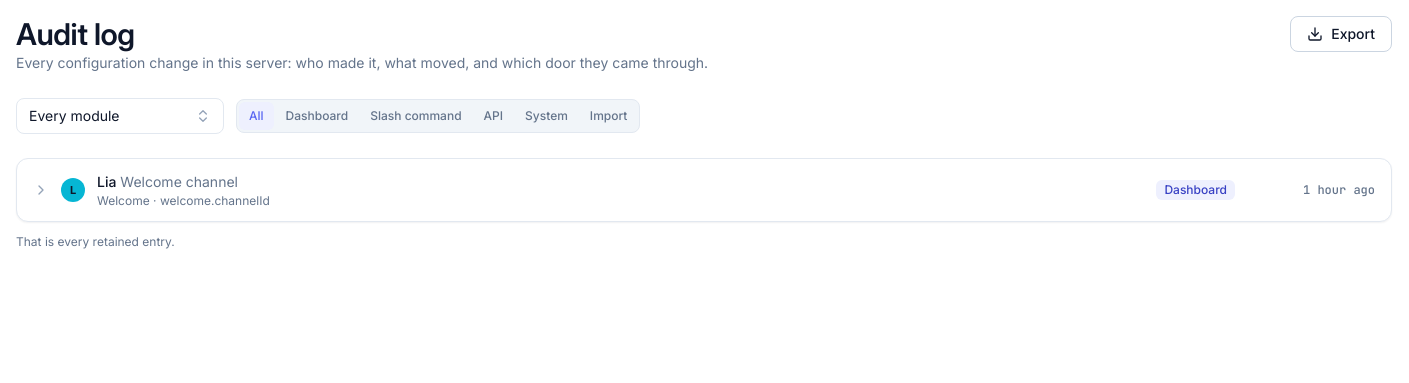
Scenario: AuditScreen › shows the before and after when the row is opened
What coordinates should you click on to do the following:
click the button that starts with "Lia"
I would click on:
 (179, 182)
Its box is x1=17 y1=159 x2=1391 y2=221.
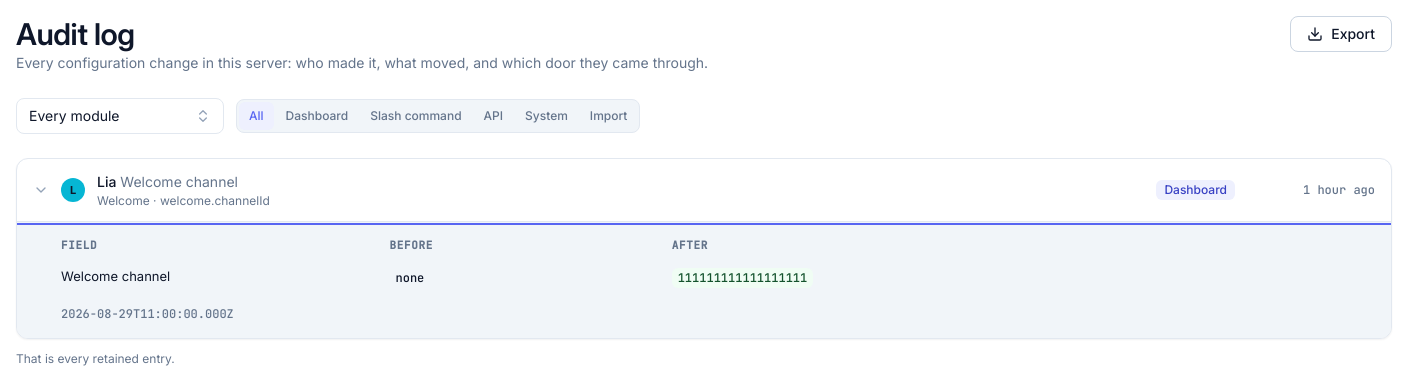
Expected: the text "111111111111111111" is shown, x1=672 y1=268 x2=813 y2=288
Expected: the text "none" is shown, x1=396 y1=270 x2=424 y2=286
